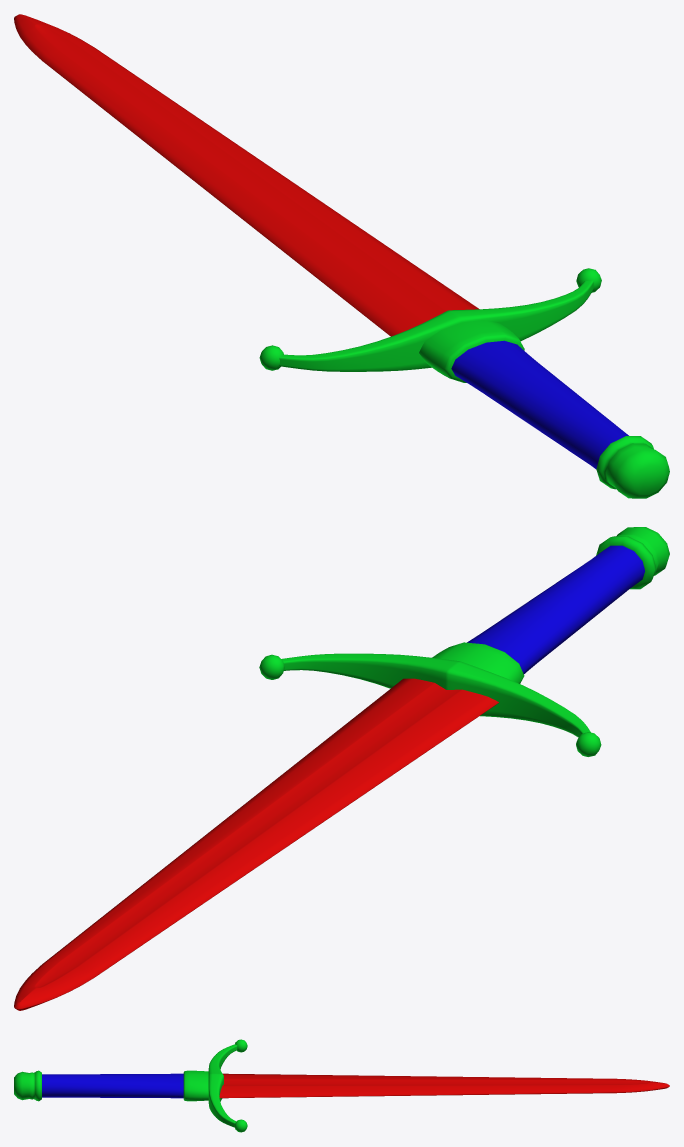
File: sm_Steel_ShortSword.fbx
3 views of the same model, one above another, from view 1: azimuth 30°, elevation 25°; view 2: azimuth 150°, elevation 25°; view 3: azimuth 270°, elevation 25° (orthographic). The views are drawn at different scales.
Parts seen in each view (by area): view 1: Steel_Sword; view 2: Steel_Sword; view 3: Steel_Sword.
Boxes of the visible parts, x1,y1,x2,y2 form: Steel_Sword: (14, 14, 669, 498); Steel_Sword: (14, 527, 669, 1010); Steel_Sword: (14, 1039, 669, 1132).
Size of the model in its own units: 34.63 by 5.13 by 112.
